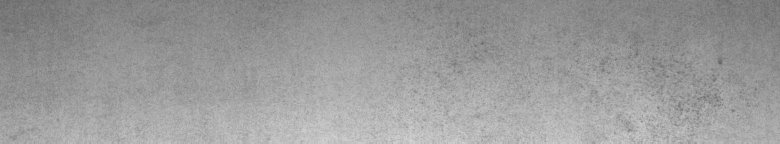ib: (628, 58, 734, 132)
